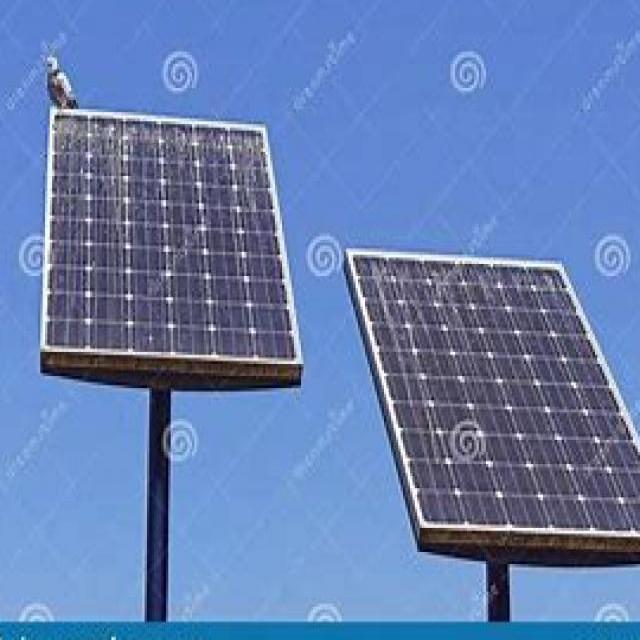faulty: (363, 260, 640, 561), (51, 109, 284, 364)
